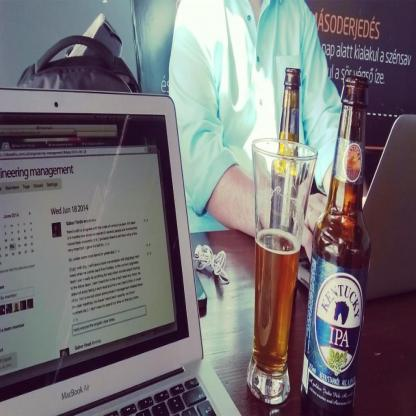board: (0, 89, 241, 416), (300, 77, 371, 416), (297, 116, 416, 291), (271, 68, 302, 235)
